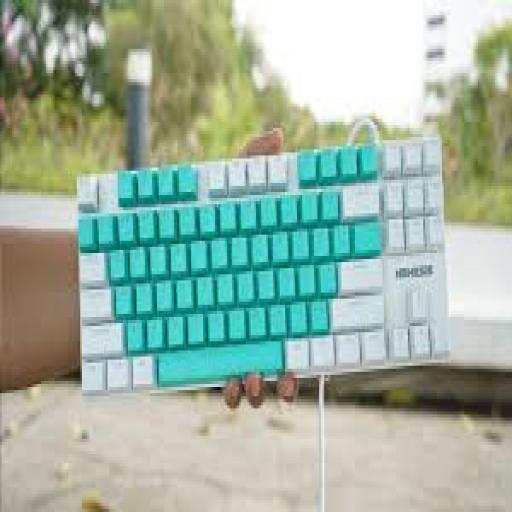keyboard: (76, 166, 460, 393)
